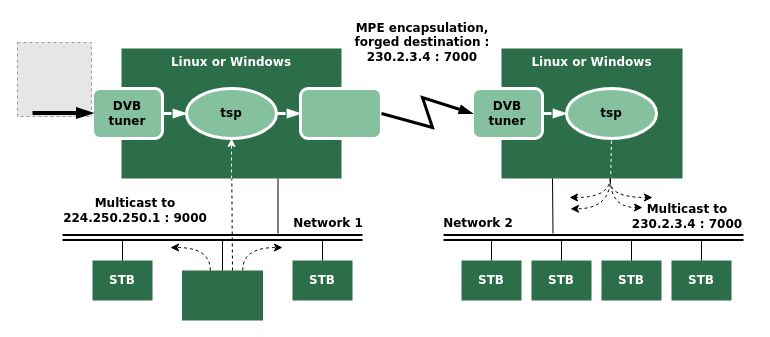
Some shapes in this 770 by 337 pixel diagram are drawn without their labels. Grey dashed boxes stand in for pictures. The centre of each missing label's shape, as x and y in pixels:
"Dektec modulator" goes at (340,113).
"Media server" goes at (222,295).
